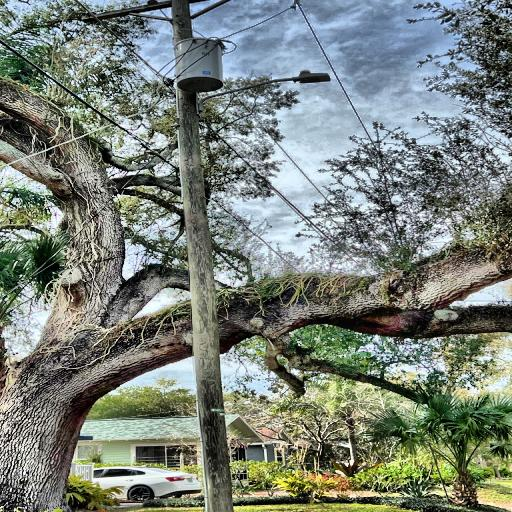pole: (159, 0, 254, 512)
street light: (192, 69, 333, 112)
transformer: (170, 35, 226, 94)
